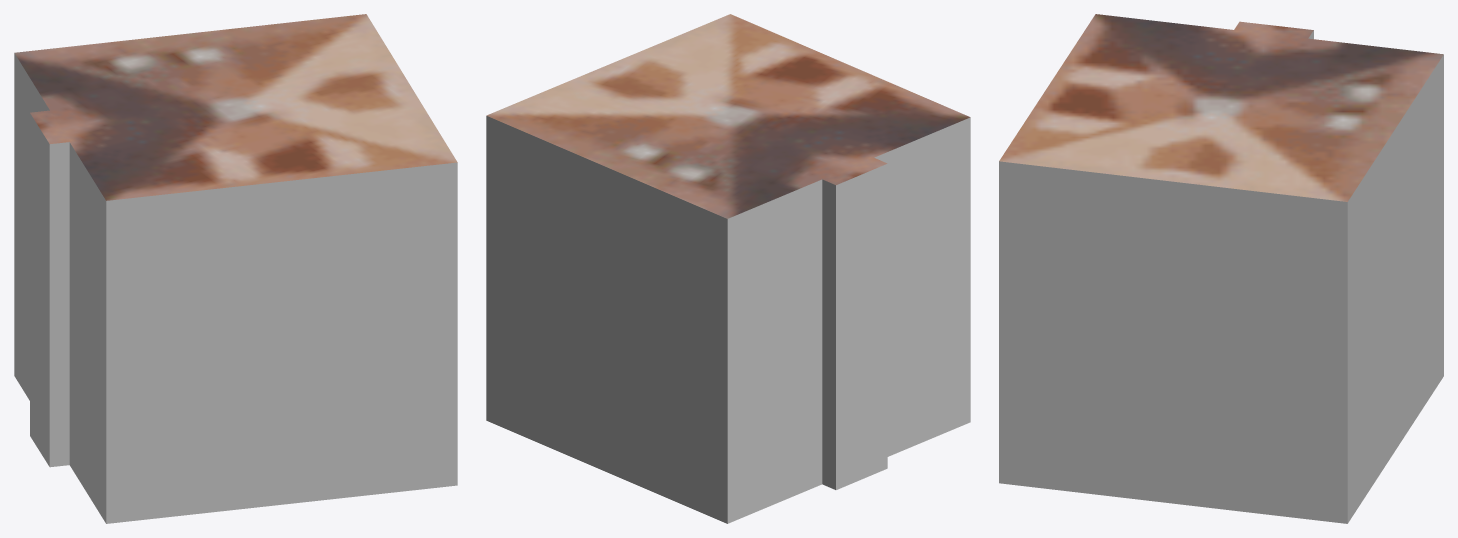
Rendered from DEBW_0010007Txj3.gltf.
3 views of the same model, side by side, from view 1: azimuth 30°, elevation 25°; view 2: azimuth 150°, elevation 25°; view 3: azimuth 270°, elevation 25° (orthographic). The views are drawn at different scales.
Visible parts, largest first — view 1: Z_UP; view 2: Z_UP; view 3: Z_UP.
Part boxes in pixels (left/top/right/bottom): Z_UP: left=14, top=14, right=457, bottom=523; Z_UP: left=486, top=14, right=970, bottom=523; Z_UP: left=999, top=14, right=1443, bottom=523.
Bounding box in the file's own units: 13.54 × 10.81 × 13.54.
2 materials, 1 textured.
